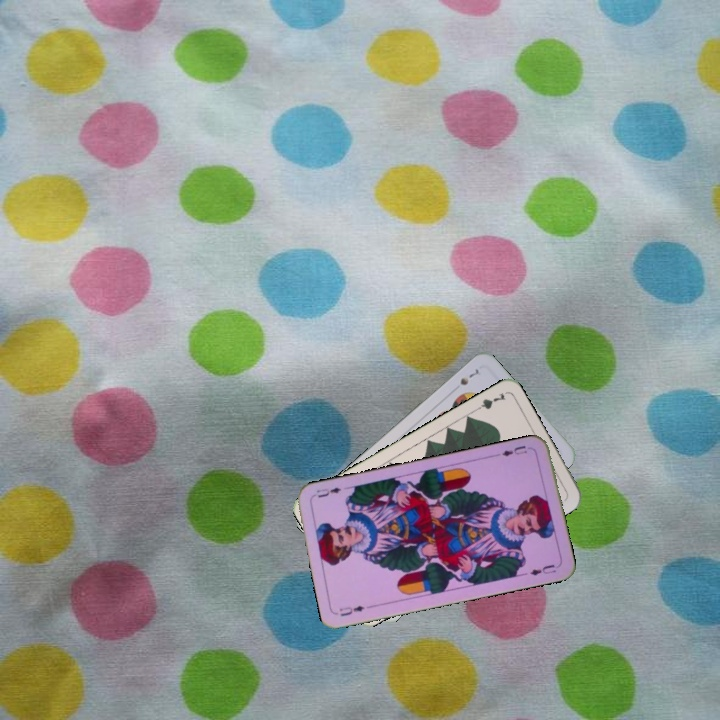EU: (494, 441, 529, 459), (335, 601, 367, 619)
G7: (470, 389, 508, 415)
S7: (456, 365, 484, 388)
